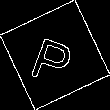P_N: (29, 25, 81, 85)
